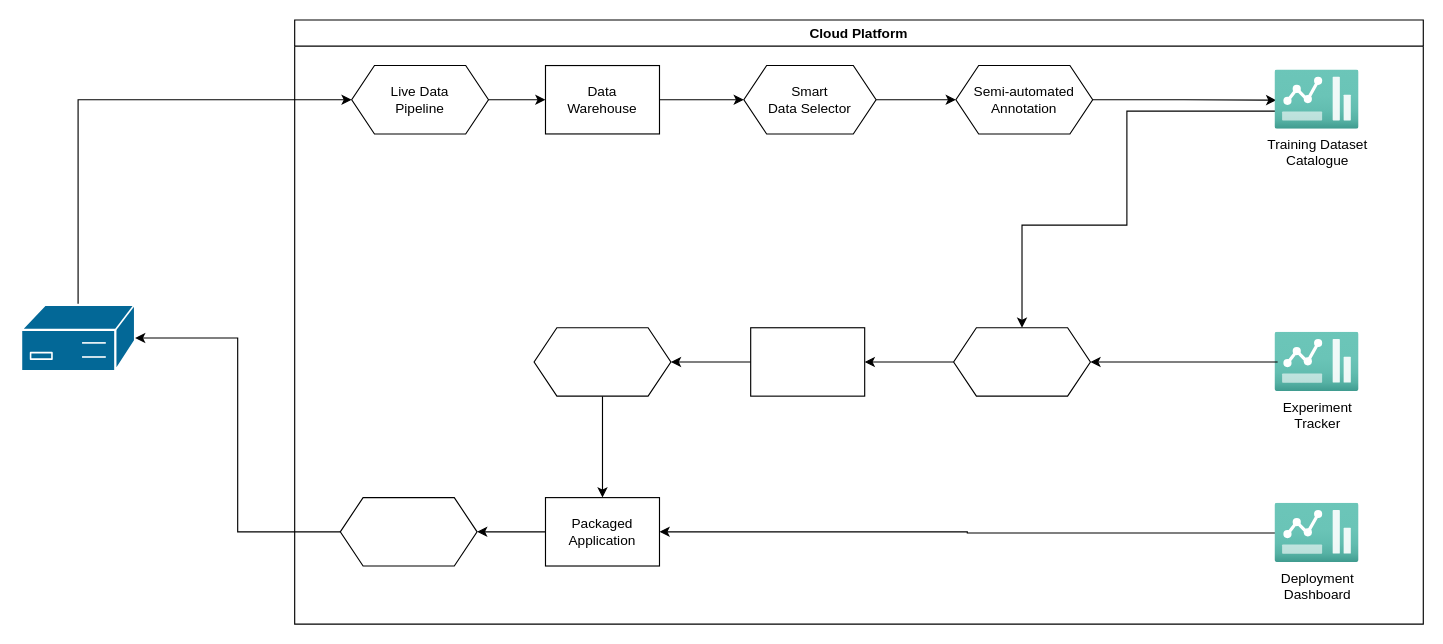
Image size: 1443x644. Some labels were removed from this diagram. Each missing label, with the centre of its shape:
Edge System: the point at 77,337
IoT Management: the point at 408,531
Model Catalogue: the point at 807,361
Model Optimization: the point at 602,361
Model Training & Evaluation: the point at 1021,361
